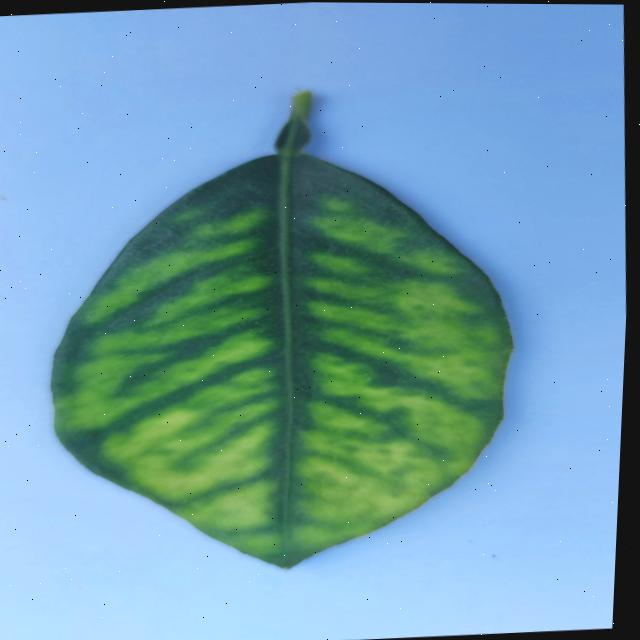greening: (53, 92, 512, 568)
